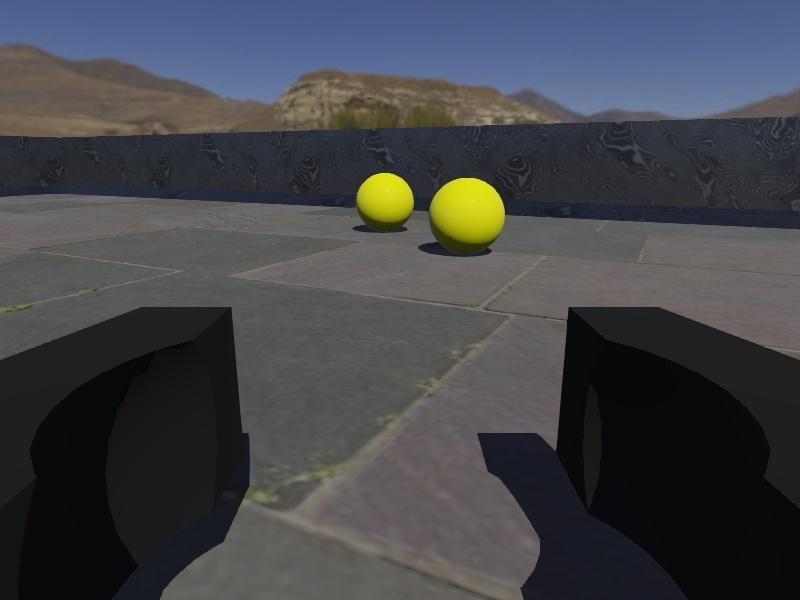yellow ball: (428, 175, 506, 255), (355, 171, 415, 233)
